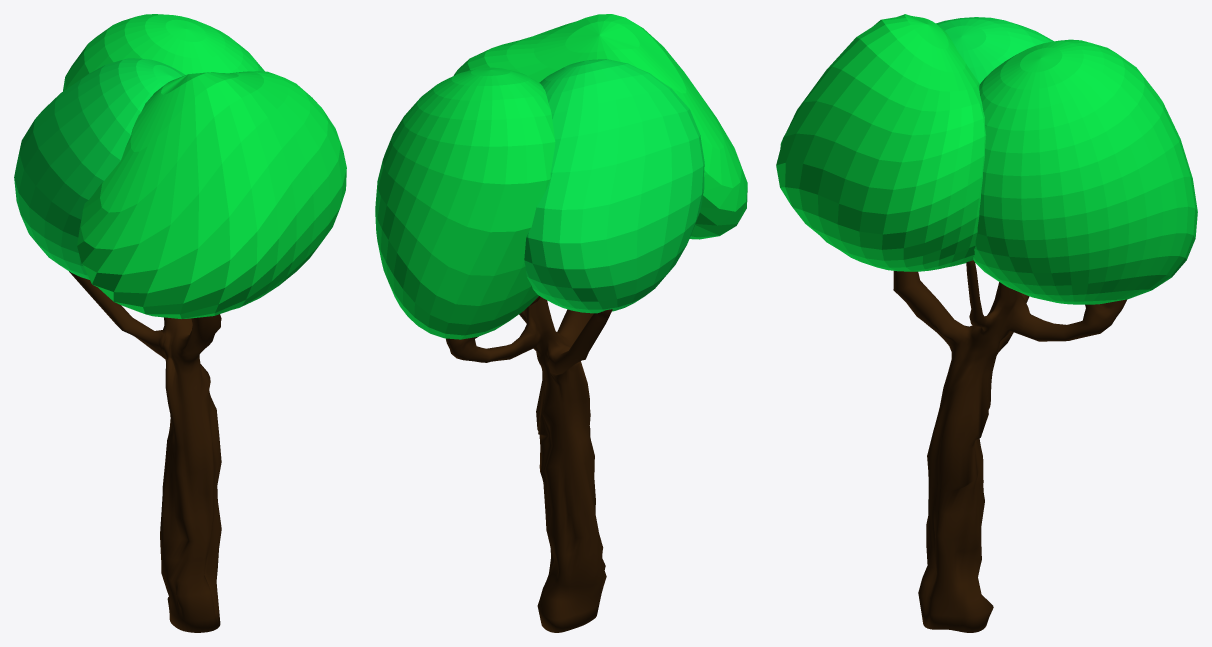
Rendered from Tree 2 Ii.fbx.
3 renders of one model, left to right at view 1: azimuth 30°, elevation 25°; view 2: azimuth 150°, elevation 25°; view 3: azimuth 270°, elevation 25°, orthographic. The views are drawn at different scales.
Visible parts, largest first — view 1: Sphere, Low poly, Sphere.001, Sphere.002; view 2: Sphere.002, Sphere.001, Low poly, Sphere; view 3: Sphere.002, Sphere, Low poly, Sphere.001.
Boxes of the visible parts, x1,y1,x2,y2 form: Sphere: (77,71,346,318); Low poly: (69,271,221,632); Sphere.001: (14,58,185,279); Sphere.002: (63,14,264,91); Sphere.002: (375,67,555,339); Sphere.001: (524,59,704,313); Low poly: (446,296,612,632); Sphere: (453,14,747,239); Sphere.002: (973,39,1197,304); Sphere: (776,14,986,271); Low poly: (893,260,1127,632); Sphere.001: (936,17,1053,83).
Bounding box in the file's own units: 2458 × 5001 × 3199.
